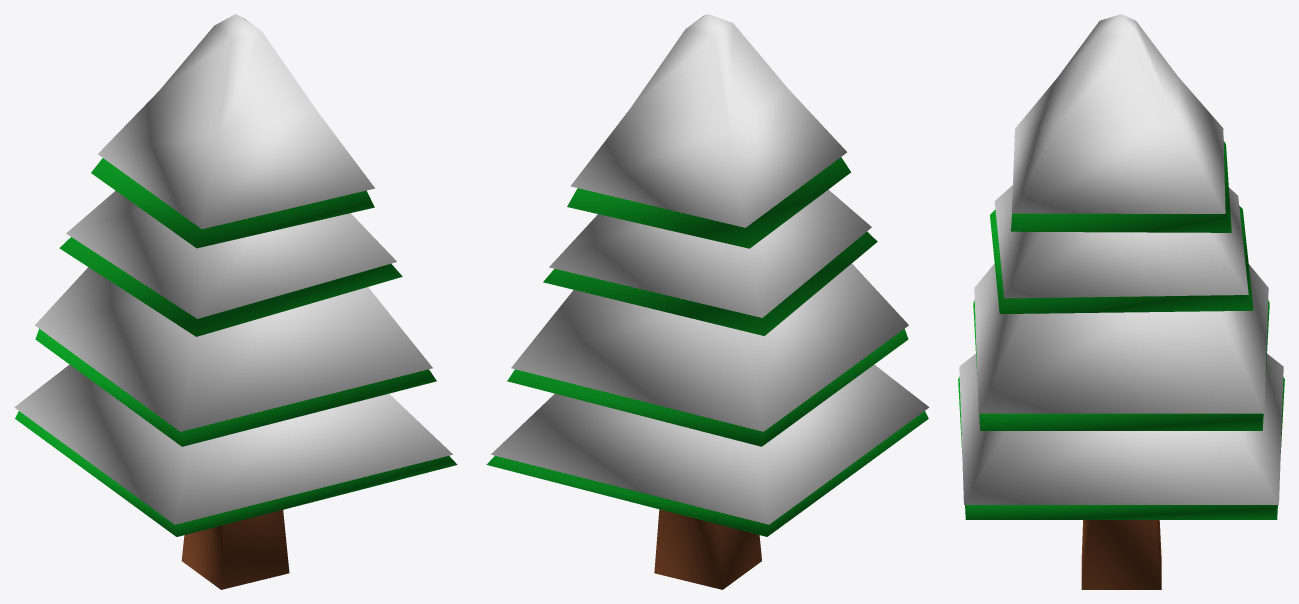
The model's file is tree_smooth.fbx.
3 renders of one model, left to right at view 1: azimuth 30°, elevation 25°; view 2: azimuth 150°, elevation 25°; view 3: azimuth 270°, elevation 25°, orthographic.
Parts seen in each view (by area): view 1: Cube; view 2: Cube; view 3: Cube.
Part boxes in pixels (bbox=[...]): Cube: bbox=[14, 14, 457, 589]; Cube: bbox=[486, 14, 929, 589]; Cube: bbox=[958, 14, 1284, 589].
Bounding box in the file's own units: 298 × 552 × 292.
